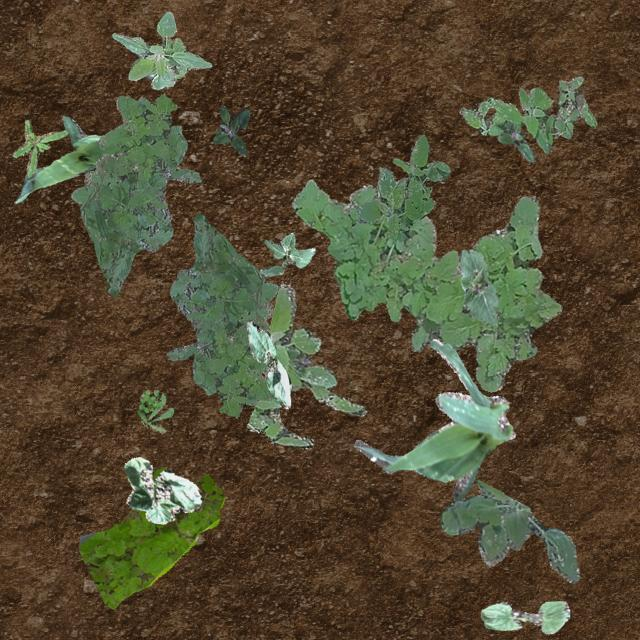crop: (352, 338, 514, 500), (13, 115, 124, 202), (112, 11, 210, 88), (122, 456, 202, 522), (244, 320, 290, 408), (458, 248, 498, 324), (479, 600, 568, 632), (258, 232, 314, 276)
weed: (290, 176, 562, 392), (70, 92, 200, 294), (165, 212, 278, 418), (76, 466, 224, 608), (246, 282, 366, 448), (440, 478, 578, 582), (458, 76, 596, 152), (354, 134, 448, 238), (12, 118, 66, 176), (212, 106, 248, 156), (136, 388, 172, 432), (496, 122, 534, 162)
